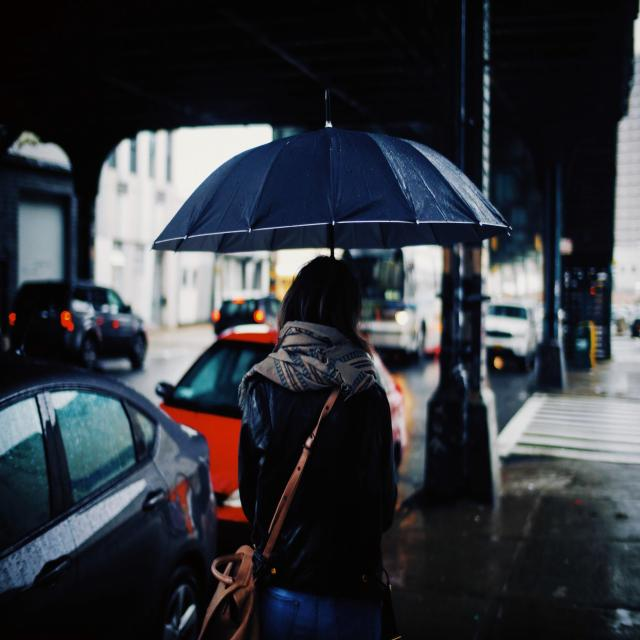adult: (238, 258, 396, 640)
